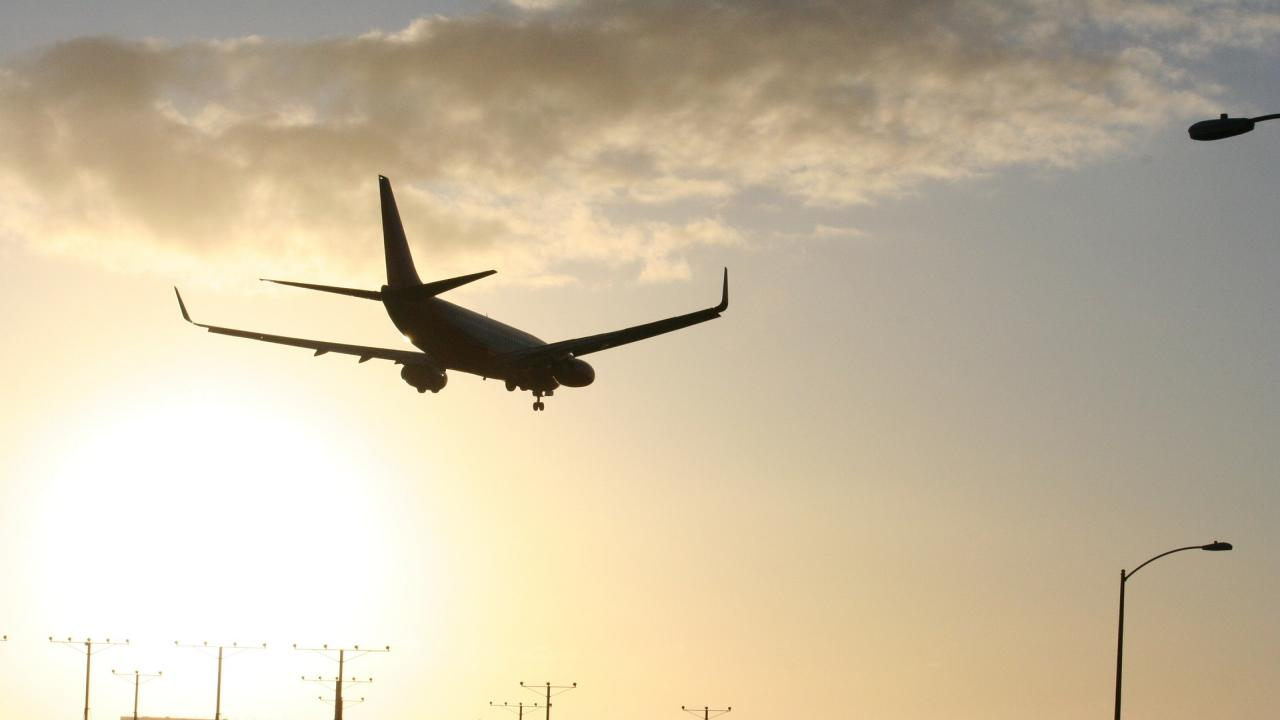Airplane: (163, 164, 744, 422)
